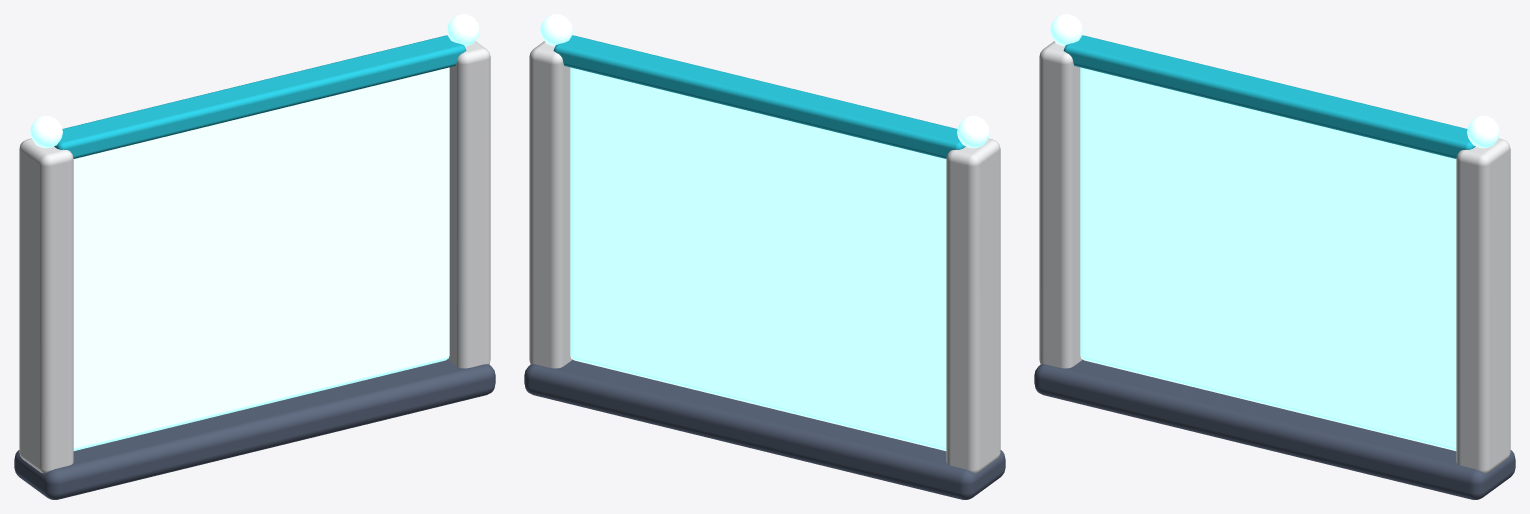
The model's file is hero-shooter-harbour-payload-item-barrier-wall-c07c5f43__27672.glb.
3 renders of one model, left to right at view 1: azimuth 30°, elevation 25°; view 2: azimuth 150°, elevation 25°; view 3: azimuth 330°, elevation 25°, orthographic.
Visible parts, largest first — view 1: item-barrier-wall; view 2: item-barrier-wall; view 3: item-barrier-wall.
Part boxes in pixels (x1,y1,x2,y2): item-barrier-wall: (14, 14, 495, 499); item-barrier-wall: (524, 14, 1005, 499); item-barrier-wall: (1034, 14, 1515, 499).
Size of the model in its own units: 2.2 by 1.73 by 0.34.
